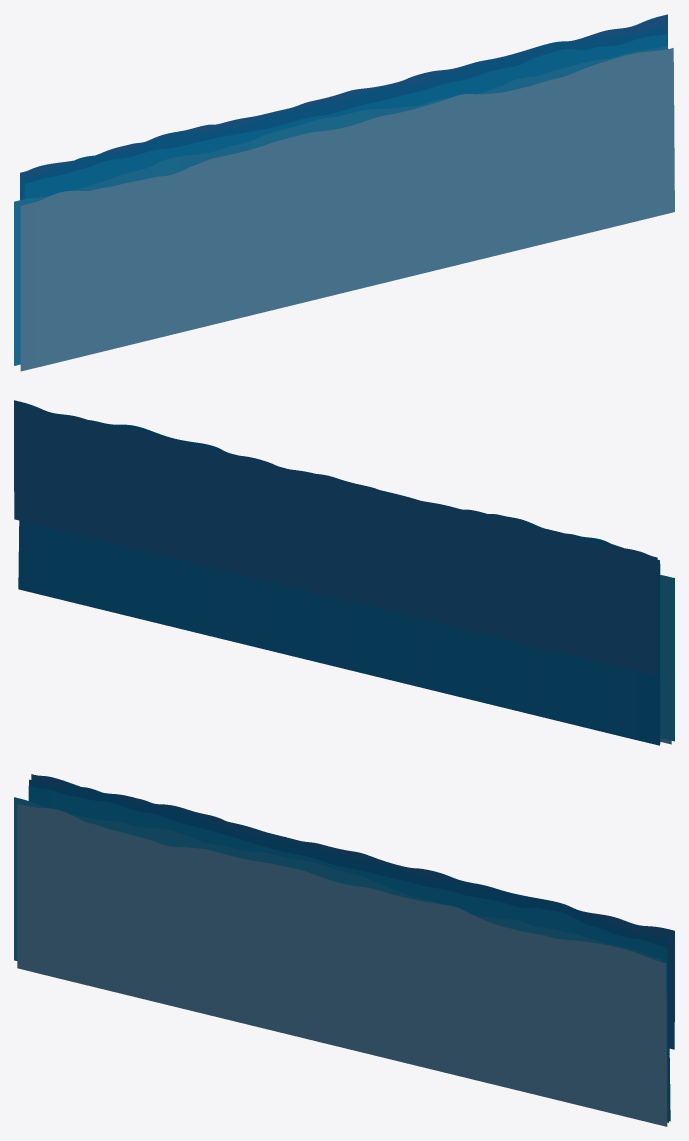
File: waves test.fbx
The picture shows the model from 3 angles, top to bottom: view 1: azimuth 30°, elevation 25°; view 2: azimuth 150°, elevation 25°; view 3: azimuth 330°, elevation 25°; orthographic projection.
Visible parts, largest first — view 1: pPlane12, pPlane10, pPlane9, pPlane11, pPlane7; view 2: pPlane7, pPlane9, pPlane11; view 3: pPlane12, pPlane10, pPlane9, pPlane11, pPlane7.
Part boxes in pixels (left/top/right/bottom): pPlane12: left=20, top=48, right=674, bottom=371; pPlane10: left=24, top=33, right=666, bottom=198; pPlane9: left=22, top=24, right=665, bottom=199; pPlane11: left=14, top=46, right=668, bottom=365; pPlane7: left=20, top=14, right=667, bottom=199; pPlane7: left=14, top=400, right=657, bottom=676; pPlane9: left=18, top=420, right=659, bottom=745; pPlane11: left=660, top=575, right=674, bottom=741; pPlane12: left=17, top=803, right=667, bottom=1126; pPlane10: left=28, top=785, right=668, bottom=1122; pPlane9: left=29, top=779, right=670, bottom=1121; pPlane11: left=14, top=797, right=661, bottom=962; pPlane7: left=31, top=774, right=674, bottom=1049.
Size of the model in its own units: 14.34 by 4.05 by 0.2766.
